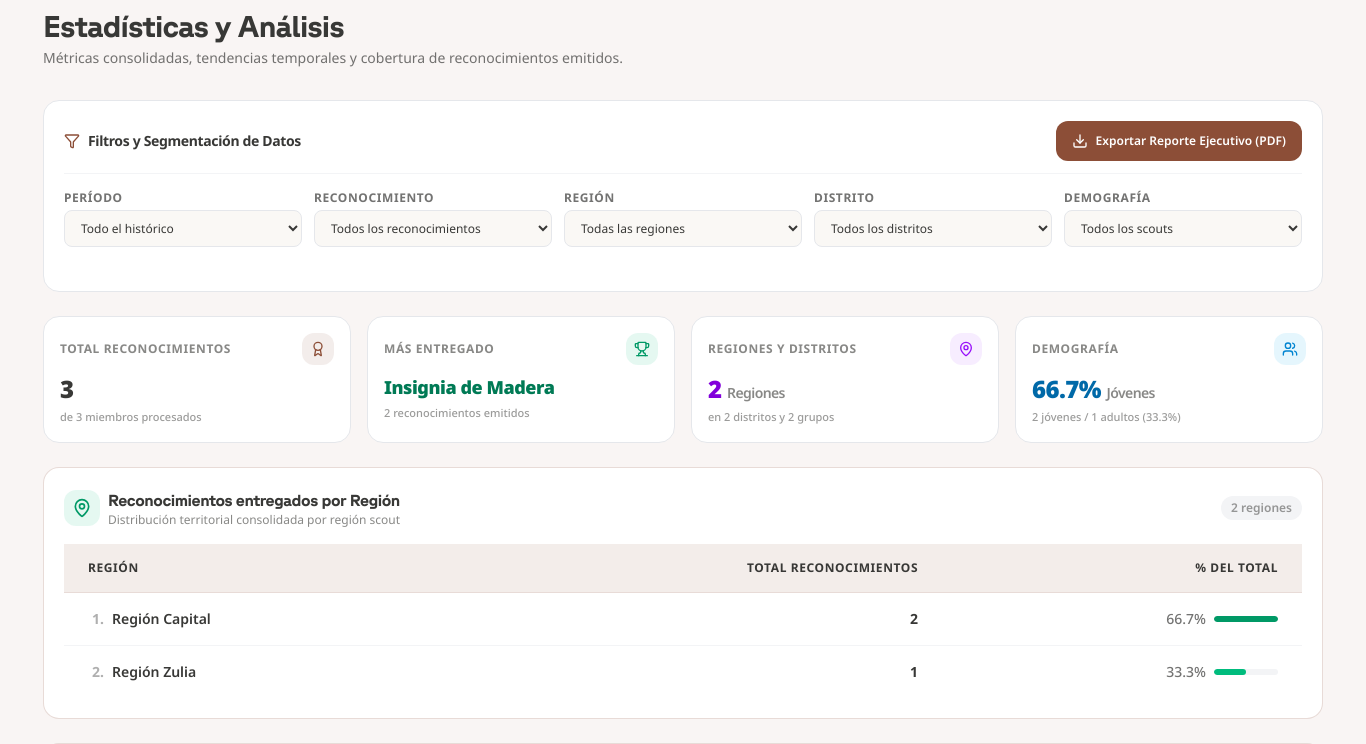
Test case: StatisticsDashboard Component › filters data when changing region and allows resetting filters
This screenshot has width=1366, height=744.
Check: the heading "Estadísticas y Análisis" is shown, box [43,8,344,43]
Select "Región Capital" in the dropdown named "Filtrar por región": (683, 228) [564,210,802,247]
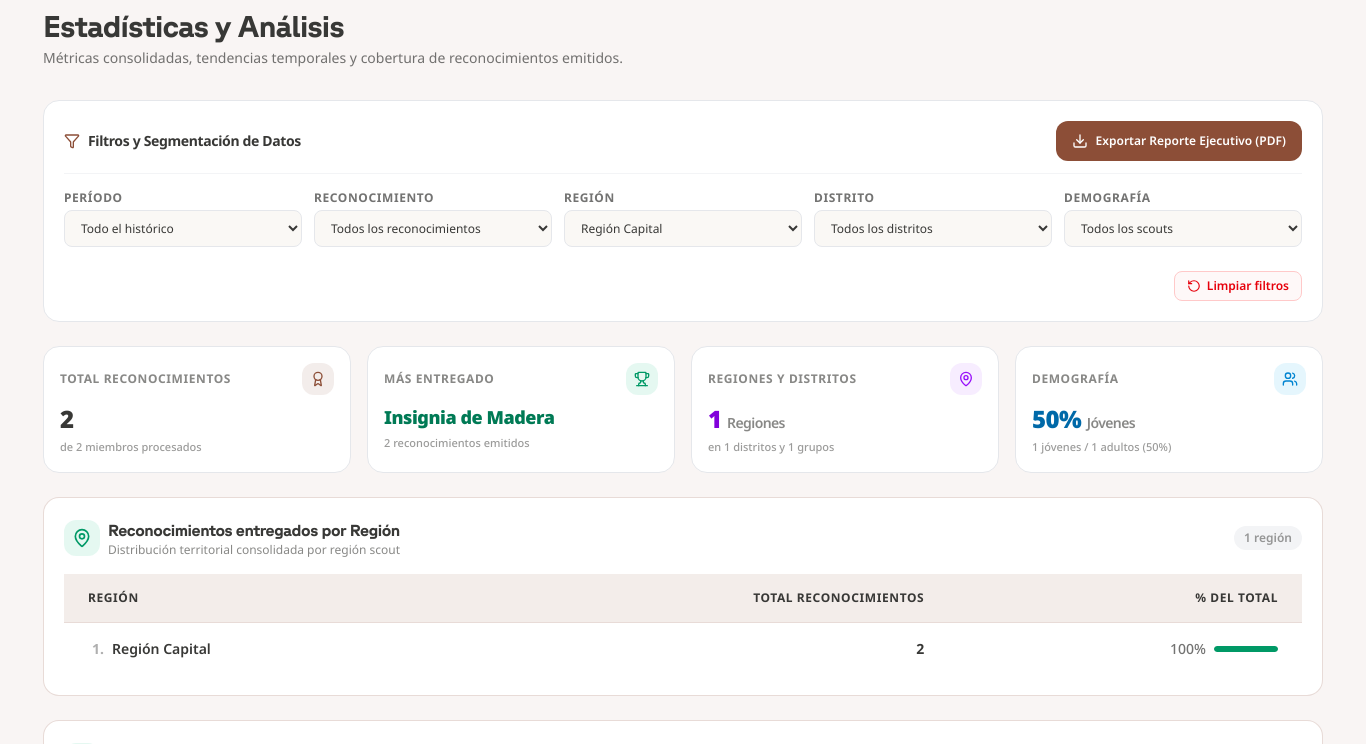
Check: the button "Limpiar filtros" is shown
Click the button "Limpiar filtros": (1238, 286) [1174,271,1302,301]
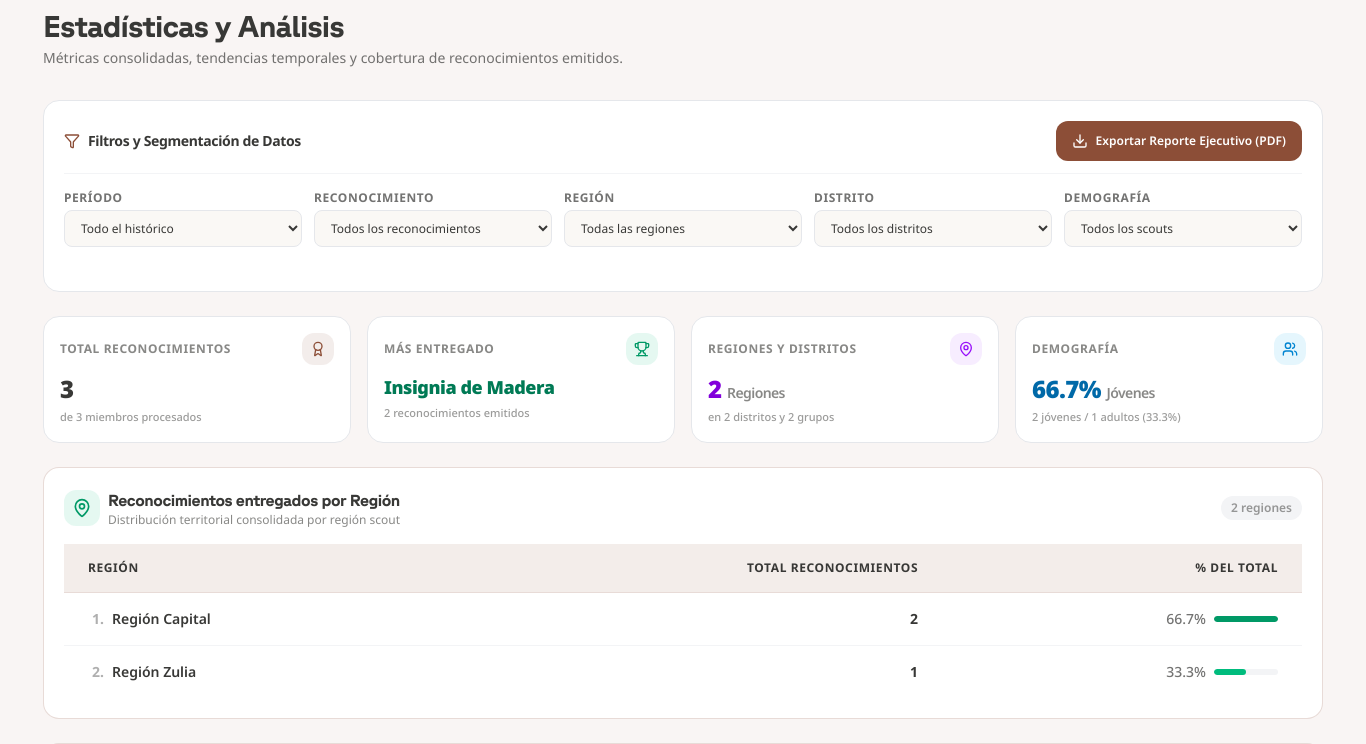
Check: the button "Limpiar filtros" is gone
